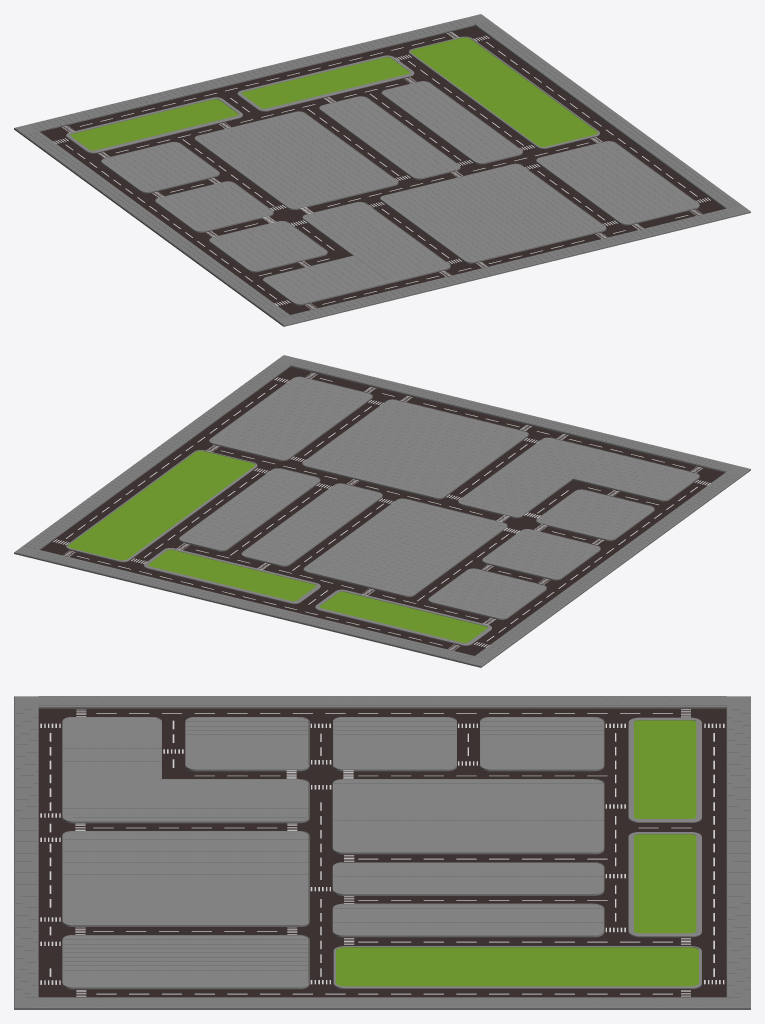
The picture shows the model from 3 angles, top to bottom: view 1: azimuth 30°, elevation 25°; view 2: azimuth 150°, elevation 25°; view 3: azimuth 270°, elevation 25°; orthographic projection. The views are drawn at different scales.
Visible parts, largest first — view 1: pCube1200, Base_and_Road, Base, Base_Mountain; view 2: pCube1200, Base_and_Road, Base, Base_Mountain; view 3: pCube1200, Base_and_Road, Base_Mountain, Base.
Boxes of the visible parts, x1,y1,x2,y2 form: pCube1200: (101, 81, 699, 305); Base_and_Road: (14, 14, 750, 326); Base: (66, 55, 414, 153); Base_Mountain: (408, 36, 599, 148); pCube1200: (179, 376, 699, 619); Base_and_Road: (14, 355, 750, 667); Base: (143, 548, 491, 645); Base_Mountain: (66, 450, 257, 562); pCube1200: (62, 717, 604, 989); Base_and_Road: (14, 696, 750, 1009); Base_Mountain: (333, 946, 701, 988); Base: (628, 717, 701, 937).
Size of the model in its own units: 3000 by 14.3 by 3000.
